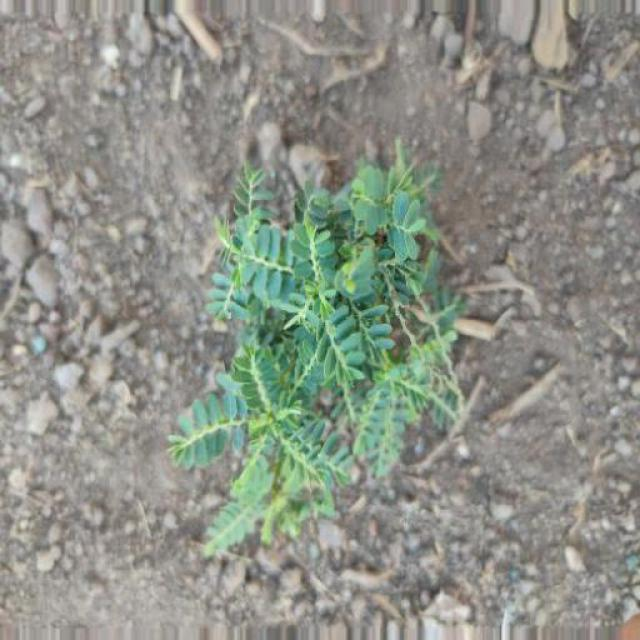weed: (152, 129, 478, 531)
